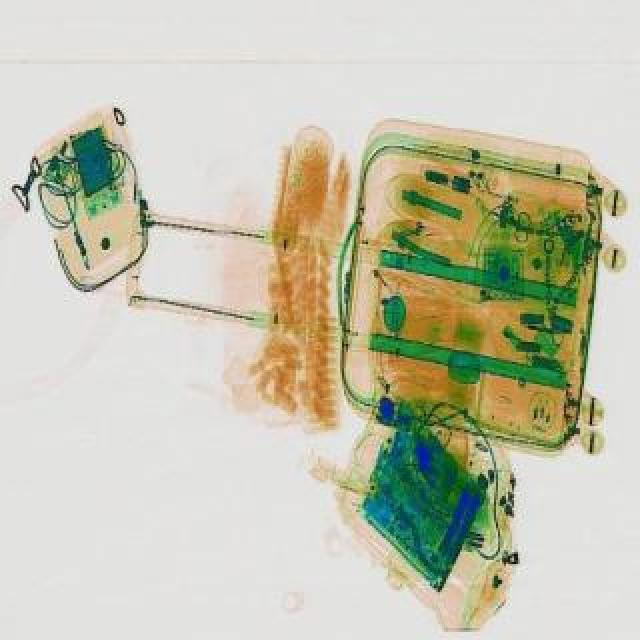pliers: (482, 198, 538, 244)
